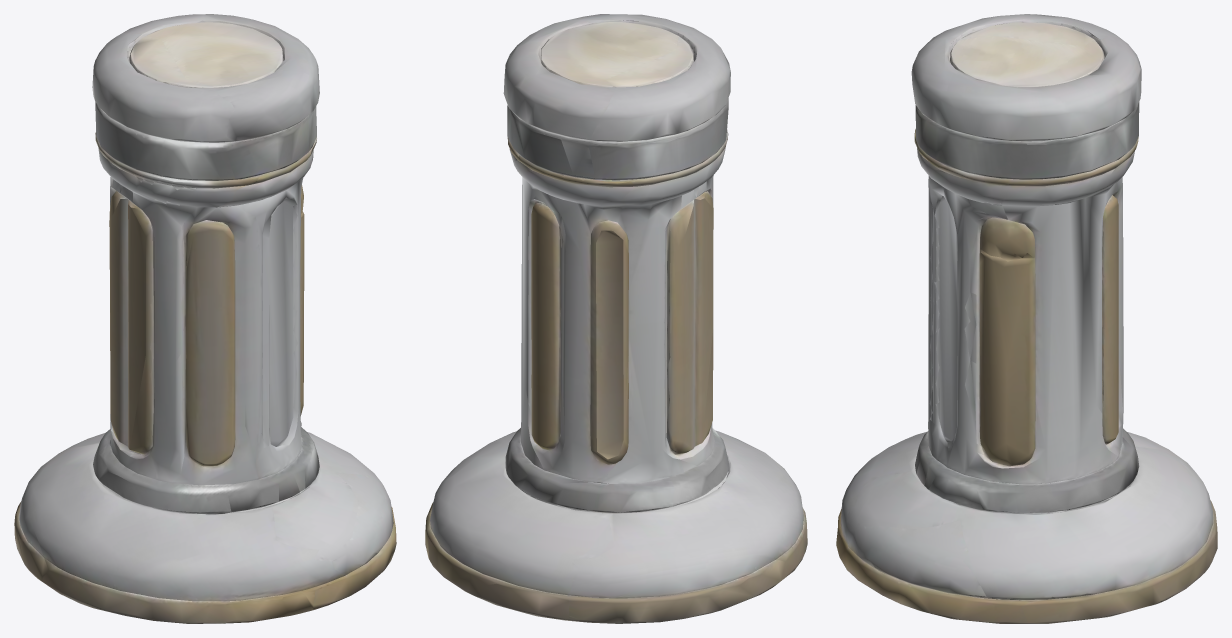
Rendered from m2BridgeAnchor.glb.
3 views of the same model, side by side, from view 1: azimuth 30°, elevation 25°; view 2: azimuth 150°, elevation 25°; view 3: azimuth 270°, elevation 25° (orthographic).
Parts seen in each view (by area): view 1: model; view 2: model; view 3: model.
Boxes of the visible parts, x1,y1,x2,y2 form: model: [14, 14, 396, 623]; model: [425, 14, 807, 623]; model: [836, 14, 1217, 623].
Bounding box in the file's own units: 1.32 × 1.88 × 1.32.
Materials: 1 (1 with a texture image).
